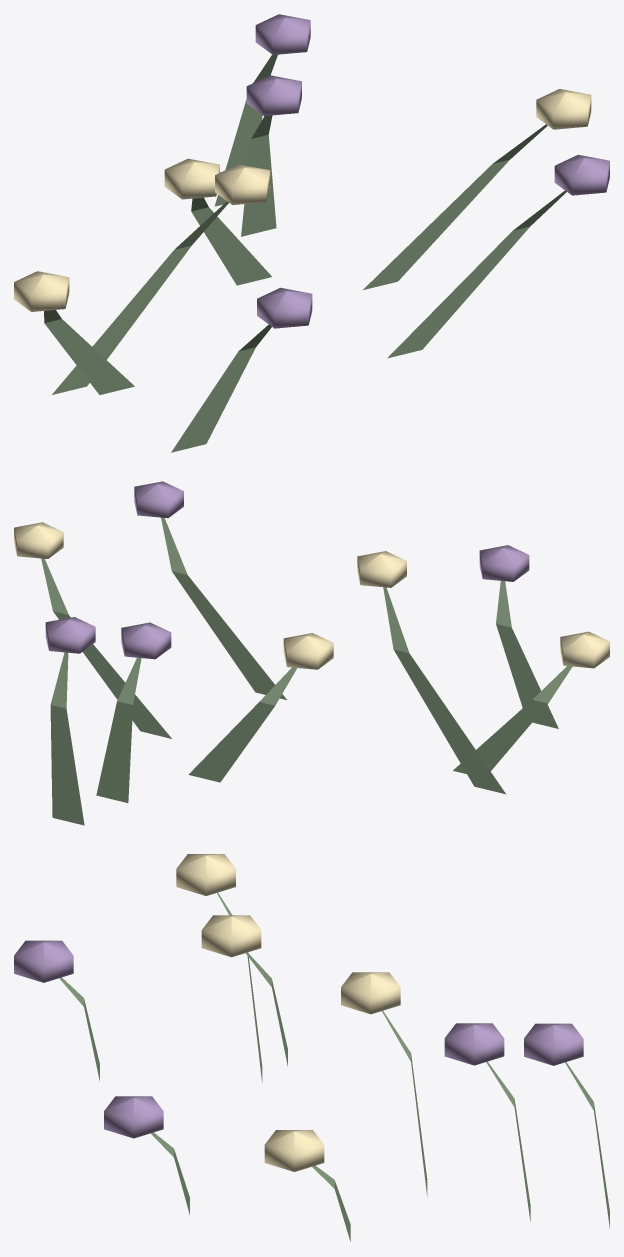
Rendered from wildflowers_variant_01.glb.
3 renders of one model, top to bottom at view 1: azimuth 30°, elevation 25°; view 2: azimuth 150°, elevation 25°; view 3: azimuth 270°, elevation 25°, orthographic. The views are drawn at different scales.
Visible parts, largest first — view 1: static_leaf_sage, static_flower_lilac, static_flower_cream; view 2: static_leaf_sage, static_flower_lilac, static_flower_cream; view 3: static_flower_lilac, static_flower_cream, static_leaf_sage.
Part boxes in pixels (x1,y1,x2,y2): static_leaf_sage: (44, 54, 566, 452); static_flower_lilac: (246, 14, 609, 328); static_flower_cream: (14, 89, 591, 311); static_leaf_sage: (41, 517, 572, 825); static_flower_lilac: (45, 481, 529, 659); static_flower_cream: (14, 522, 609, 669); static_flower_lilac: (14, 940, 583, 1138); static_flower_cream: (176, 854, 400, 1171); static_leaf_sage: (59, 892, 609, 1241).
Bounding box in the file's own units: 0.9263 × 0.299 × 0.7411.
